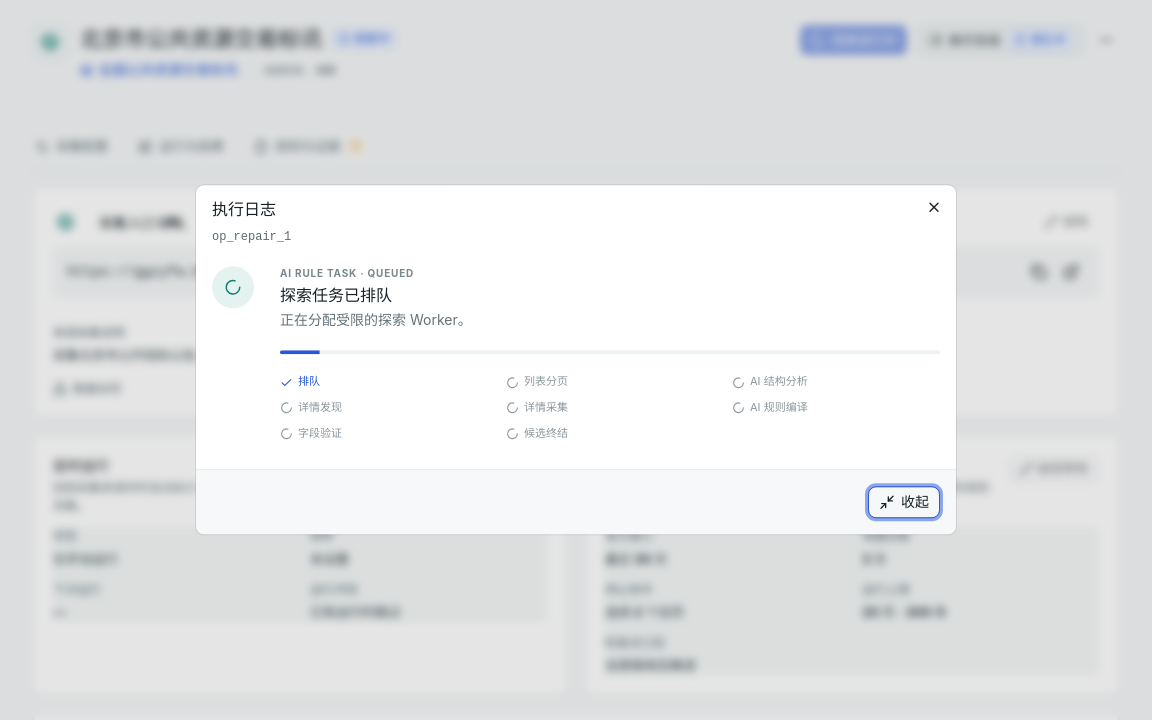
Scenario: Collector evidence bundle and AI repair › opens explore logs by default, stays collapsed across polling, and retains failure details
Expected: the progress indicator is shown, [280,351,940,355]
Click the button "收起" at (904, 503), box [868,487,940,519]
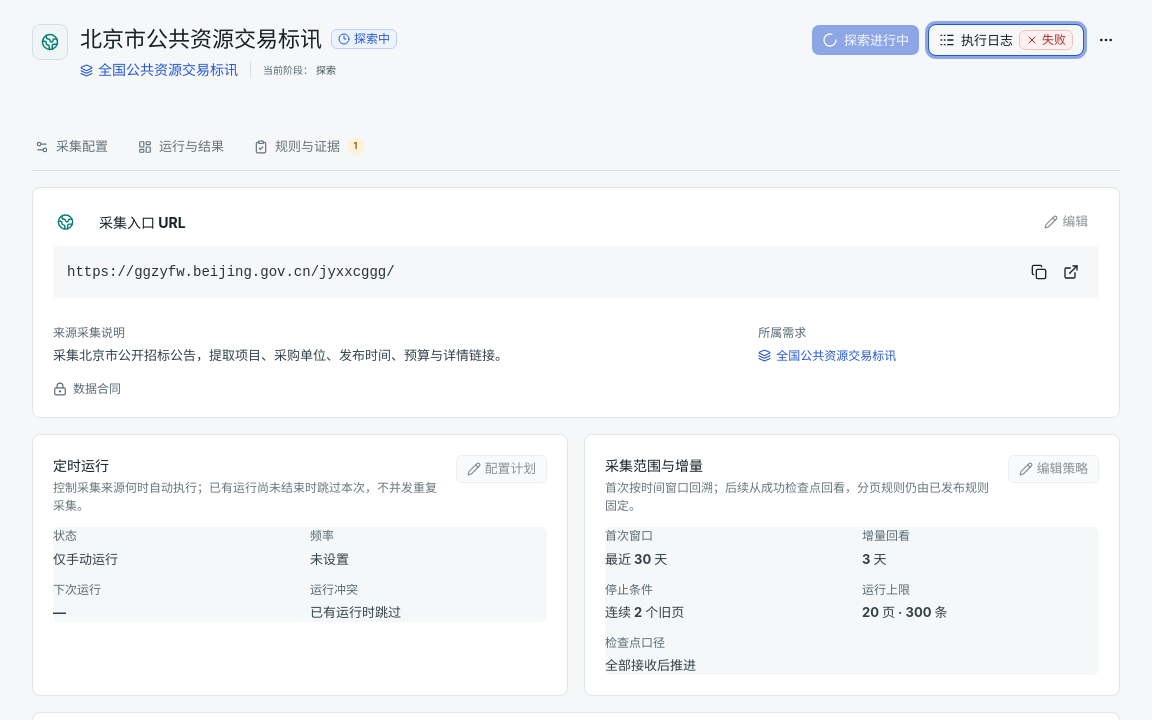
Expected: the dialog is gone
Click the button with aria-label "查看执行日志" at (1006, 40), box [928,24,1084,56]
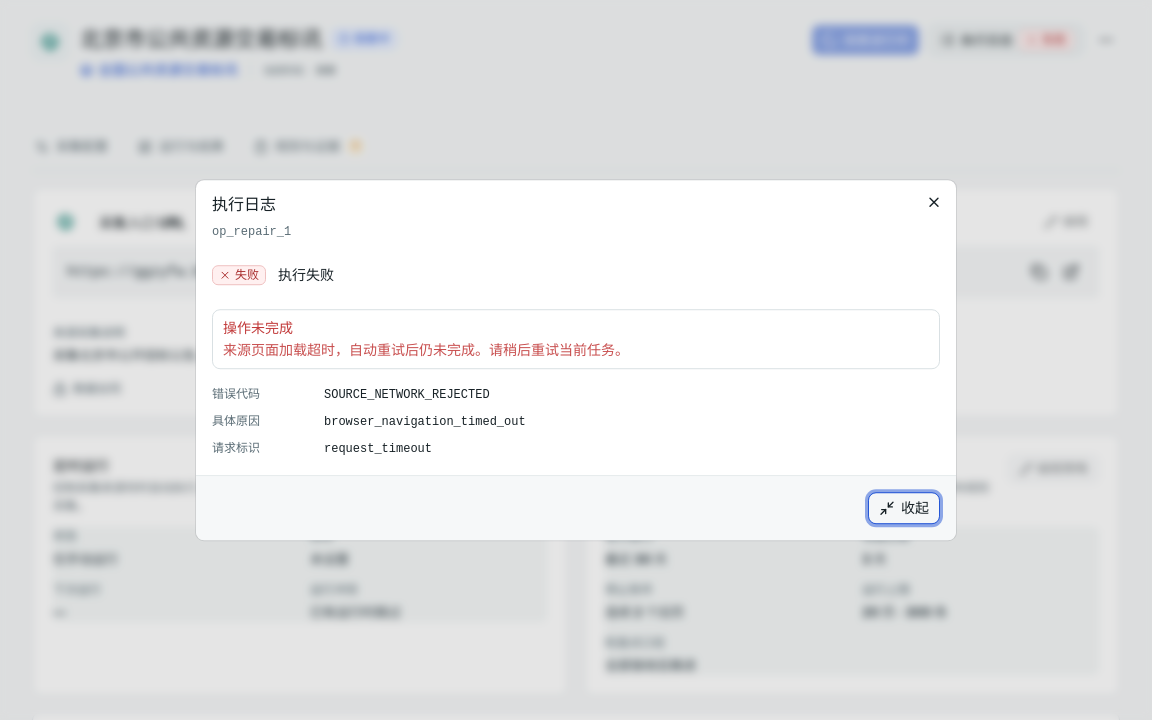
Expected: the text "来源页面加载超时，自动重试后仍未完成。请稍后重试当前任务。" is shown, [223,341,629,358]
Expected: the text "browser_navigation_timed_out" is shown, [324,416,526,430]
Click the button "收起" at (904, 508), box [868,492,940,524]
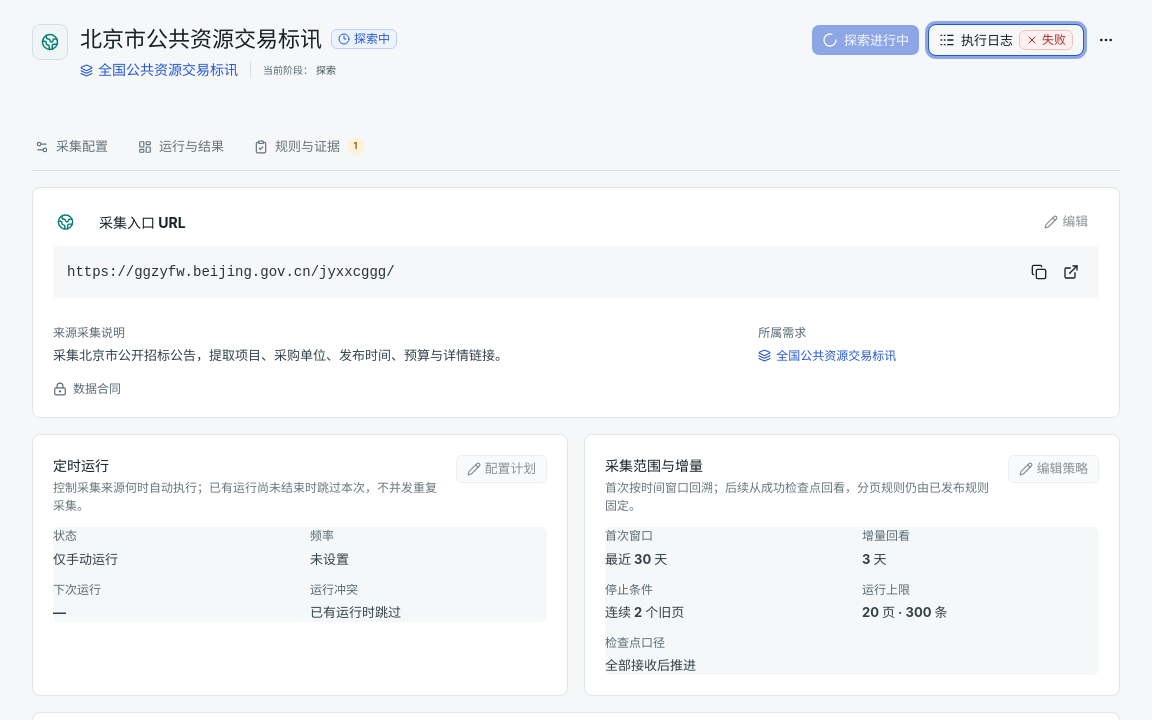
Expected: the button with aria-label "查看执行日志" is shown, [928,24,1084,56]
Expected: the text "来源页面加载超时" is gone
